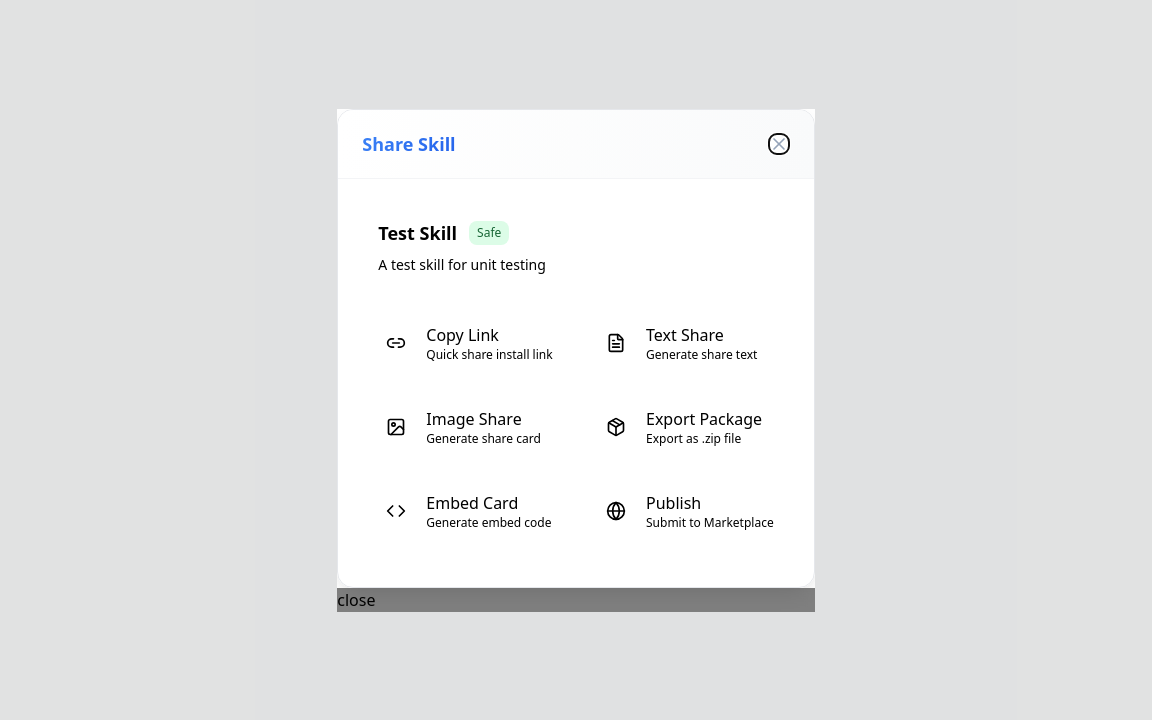
Test: ShareSheet › switches to text panel when text option is clicked
Step 1. Click the button with test id "share-text-tab" → (686, 342), box top-left (582, 306), bottom-right (790, 378)
(page scrolled)
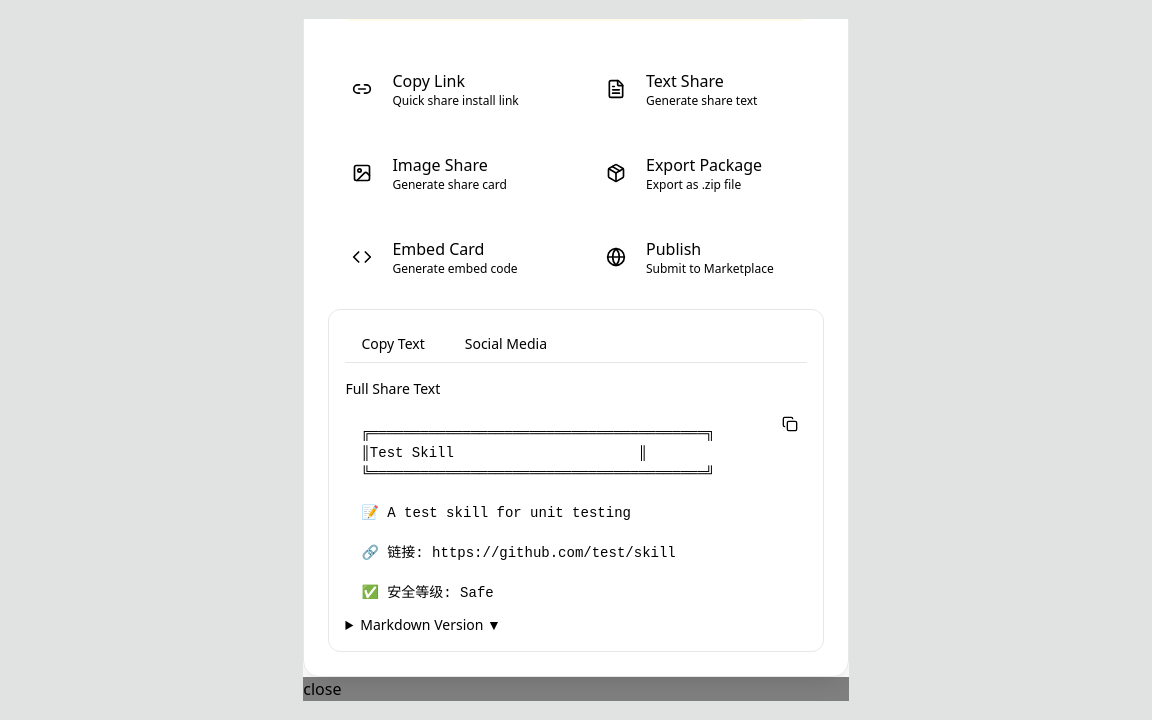
expect the element with test id "share-text-panel" is shown: met, box top-left (328, 309), bottom-right (824, 652)
